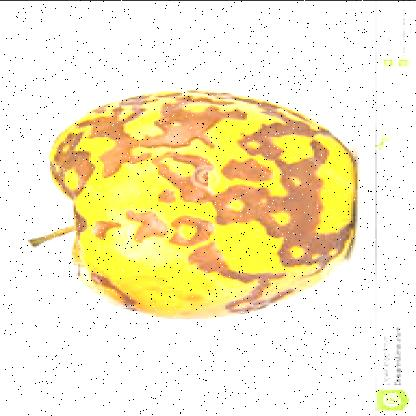damaged_apple: (47, 92, 346, 310)
